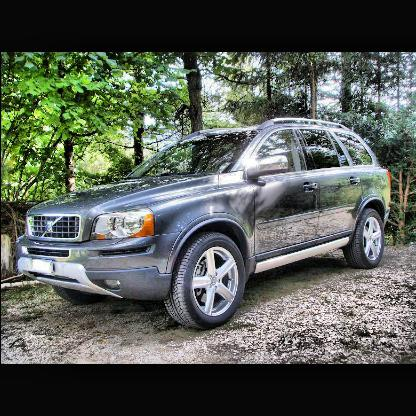Volvo XC90 SUV 2007: (15, 118, 391, 330)
